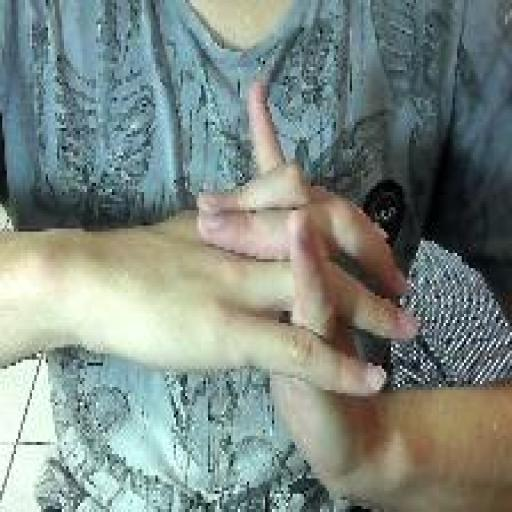Ushi -ox-: (193, 76, 422, 506)
